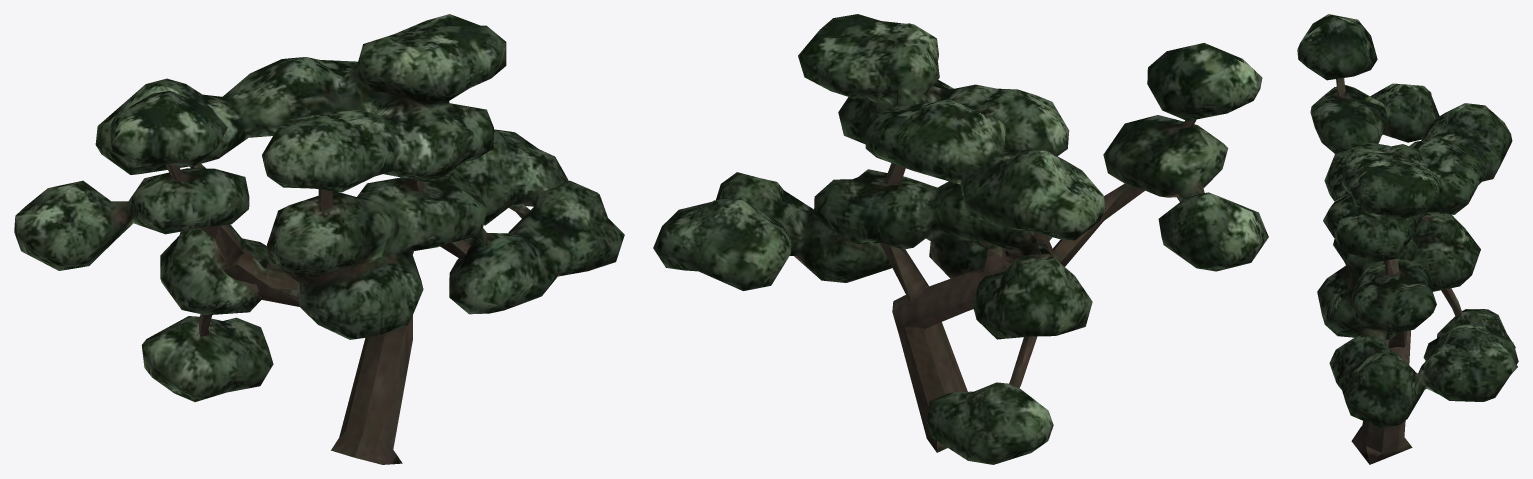
File: pine_a_far.glb
3 renders of one model, left to right at view 1: azimuth 30°, elevation 25°; view 2: azimuth 150°, elevation 25°; view 3: azimuth 270°, elevation 25°, orthographic. The views are drawn at different scales.
Visible parts, largest first — view 1: pine_a_lod1; view 2: pine_a_lod1; view 3: pine_a_lod1.
Part boxes in pixels (box(x1,y1,x2,y2)): pine_a_lod1: box(14, 14, 624, 464); pine_a_lod1: box(653, 14, 1268, 464); pine_a_lod1: box(1297, 14, 1518, 464).
Size of the model in its own units: 4.06 by 2.97 by 1.71.
Materials: 1 (1 with a texture image).
